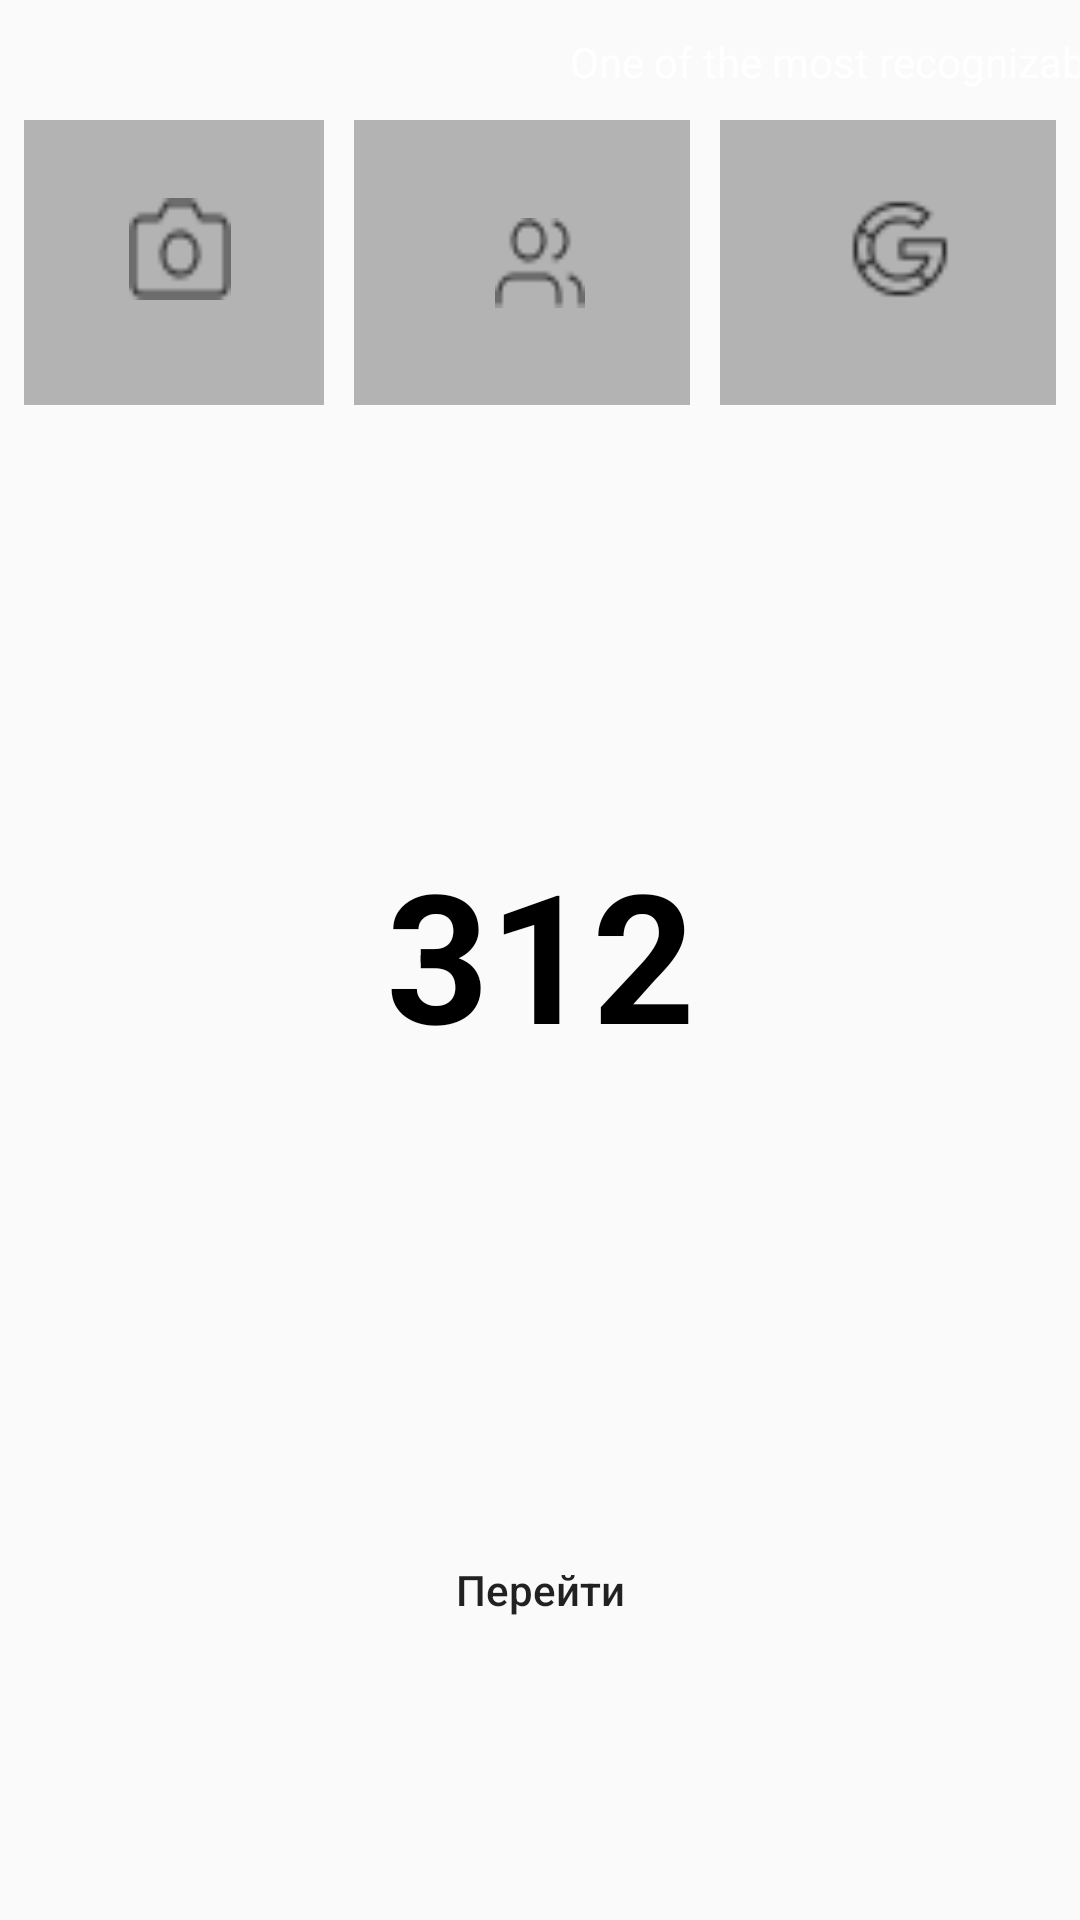

Named icons in this screenshot (1080 x 1920) and their centers, (x,y):
camera: (180,249)
contacts: (540,263)
